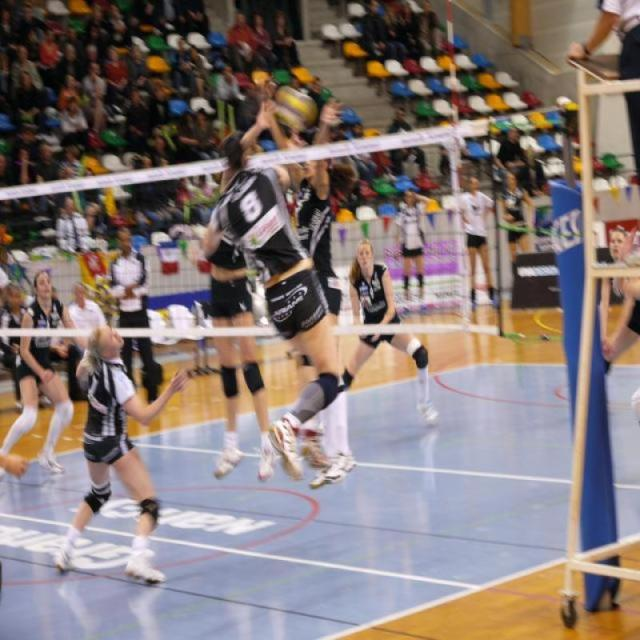volleyball: (270, 81, 320, 132)
